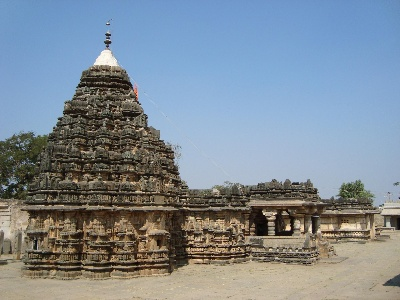gopuram: (27, 40, 200, 221)
mandapa: (245, 184, 336, 247)
